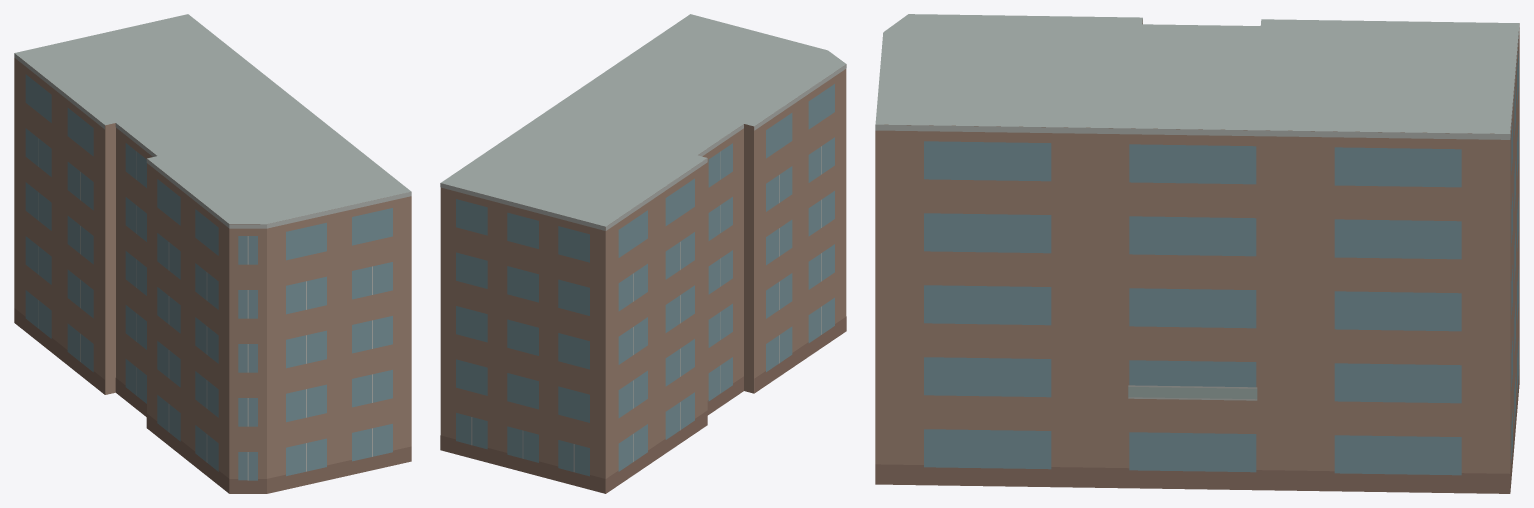
File: survey-upis-32663329.glb
The picture shows the model from 3 angles, left to right: view 1: azimuth 30°, elevation 25°; view 2: azimuth 150°, elevation 25°; view 3: azimuth 270°, elevation 25°; orthographic projection. The views are drawn at different scales.
Visible parts, largest first — view 1: survey-upis-32663329.tmp; view 2: survey-upis-32663329.tmp; view 3: survey-upis-32663329.tmp.
Part boxes in pixels (x1,y1,x2,y2): survey-upis-32663329.tmp: (14,14,411,493); survey-upis-32663329.tmp: (440,14,846,493); survey-upis-32663329.tmp: (875,14,1519,493).
Bounding box in the file's own units: 10.6 × 14.8 × 24.02.
